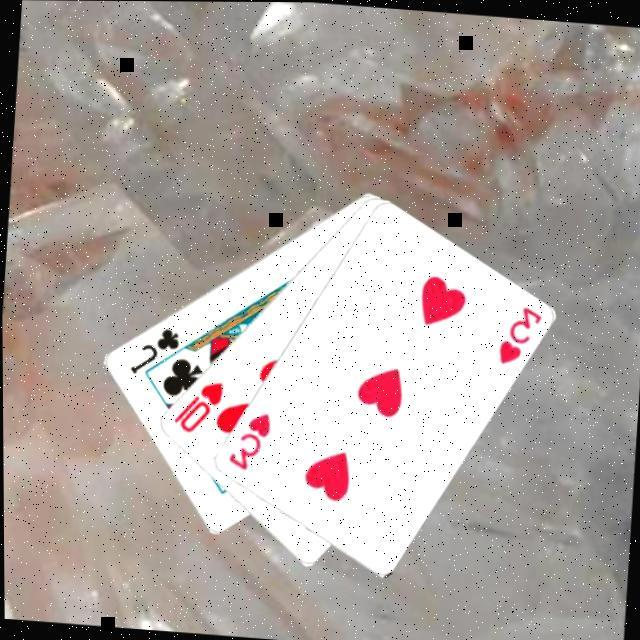10H: (169, 376, 227, 438)
3H: (495, 301, 545, 370), (224, 408, 274, 476)
JC: (126, 322, 184, 380)
